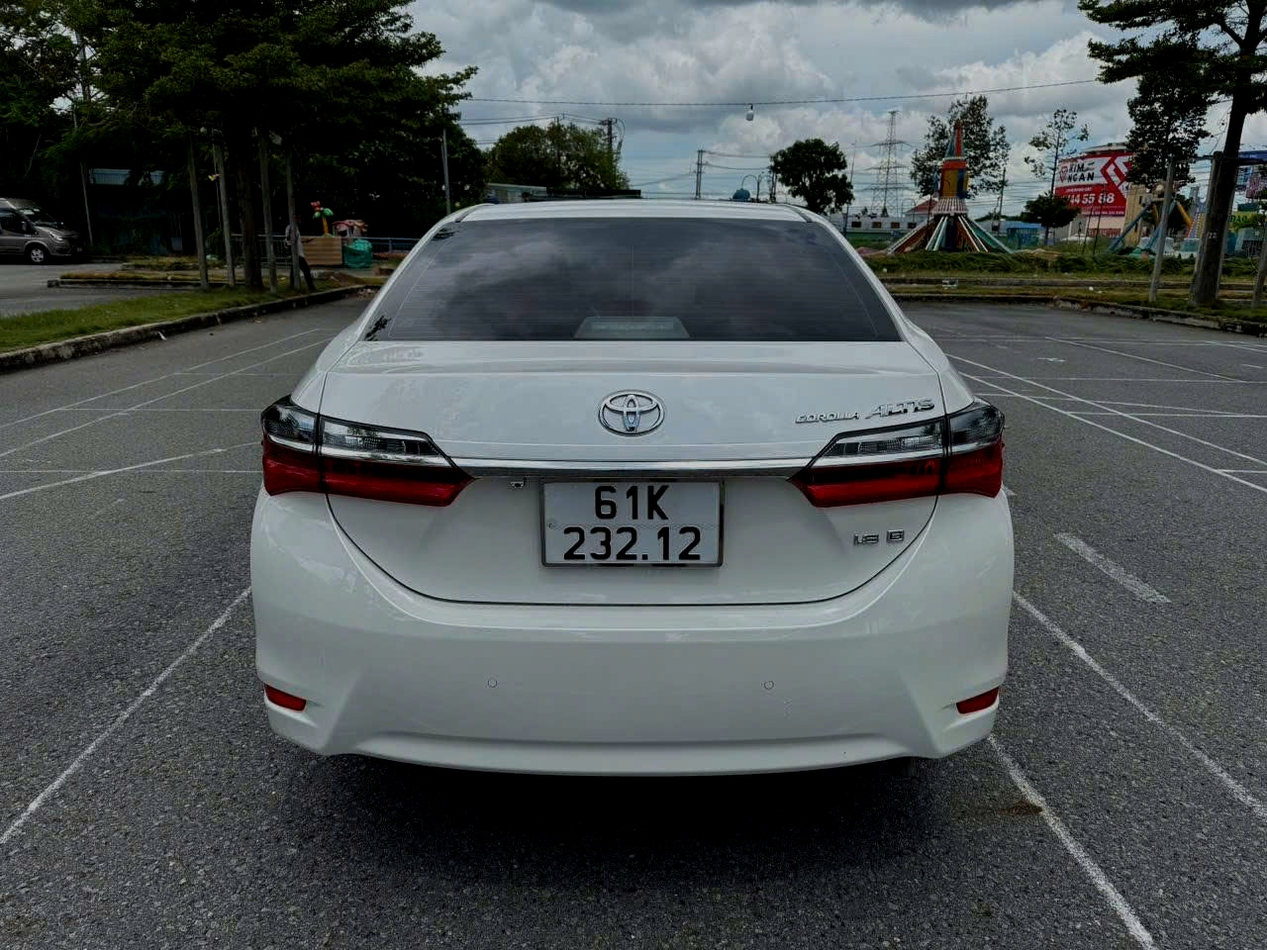Bien-so: (572, 486, 763, 582)
